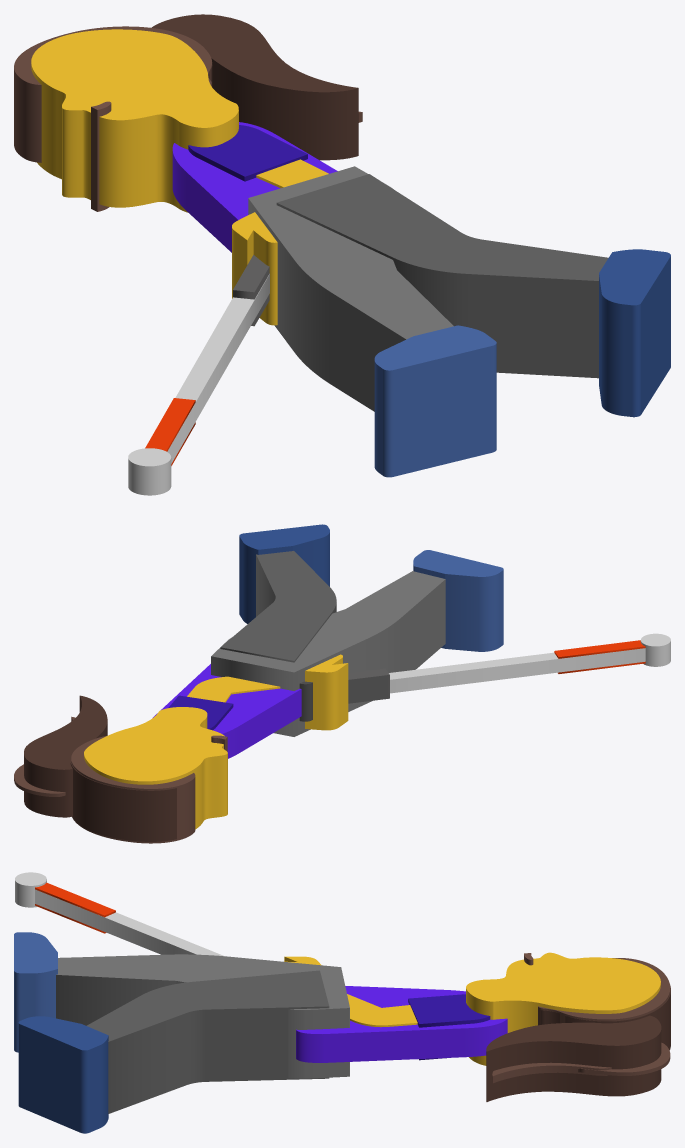
Rendered from emoji_u1f469_200d_1f9af.glb.
The picture shows the model from 3 angles, top to bottom: view 1: azimuth 30°, elevation 25°; view 2: azimuth 150°, elevation 25°; view 3: azimuth 270°, elevation 25°; orthographic projection. The views are drawn at different scales.
Parts seen in each view (by area): view 1: emoji_u1f469_200d_1f9af; view 2: emoji_u1f469_200d_1f9af; view 3: emoji_u1f469_200d_1f9af.
Part boxes in pixels (x1,y1,x2,y2): emoji_u1f469_200d_1f9af: (14, 14, 670, 495); emoji_u1f469_200d_1f9af: (14, 524, 670, 843); emoji_u1f469_200d_1f9af: (14, 872, 670, 1133).
Bounding box in the file's own units: 0.0248 × 0.0046 × 0.033.
